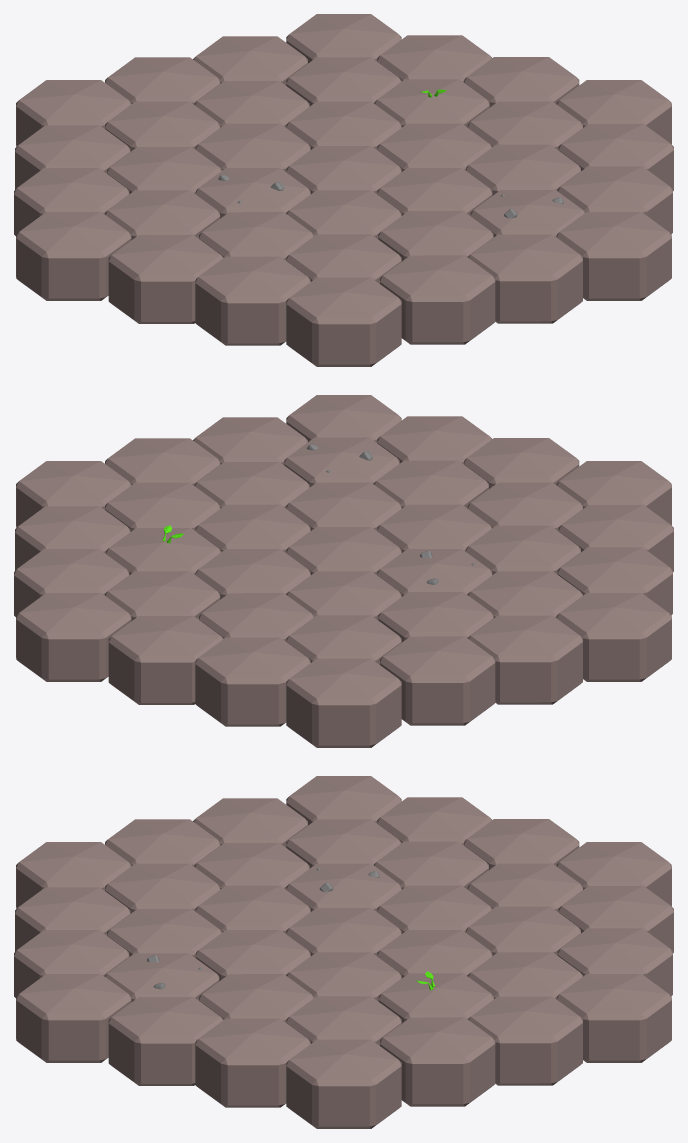
The model's file is FakeMap.fbx.
The picture shows the model from 3 angles, top to bottom: view 1: azimuth 30°, elevation 25°; view 2: azimuth 150°, elevation 25°; view 3: azimuth 270°, elevation 25°; orthographic projection.
Visible parts, largest first — view 1: BaseHex.005, BaseHex.003, BaseHex.002, BaseHex.001, Hex Plant.002, Hex peble.008, Hex peble.005; view 2: BaseHex.005, BaseHex.003, BaseHex.002, Hex peble.005, BaseHex.001, Hex Plant.002, Hex peble.008; view 3: BaseHex.005, BaseHex.003, BaseHex.002, Hex Plant.002, Hex peble.008, BaseHex.001, Hex peble.005.
Boxes of the visible parts, bbox=[...] form: BaseHex.005: bbox=[14, 14, 673, 366]; BaseHex.003: bbox=[105, 57, 582, 283]; BaseHex.002: bbox=[195, 101, 492, 238]; BaseHex.001: bbox=[286, 146, 401, 194]; Hex Plant.002: bbox=[374, 79, 489, 127]; Hex peble.008: bbox=[195, 168, 310, 218]; Hex peble.005: bbox=[470, 190, 585, 237]; BaseHex.005: bbox=[14, 395, 673, 747]; BaseHex.003: bbox=[105, 460, 582, 664]; BaseHex.002: bbox=[195, 482, 492, 619]; Hex peble.005: bbox=[284, 437, 399, 487]; BaseHex.001: bbox=[286, 527, 401, 575]; Hex Plant.002: bbox=[106, 525, 221, 574]; Hex peble.008: bbox=[377, 549, 492, 596]; BaseHex.005: bbox=[14, 776, 673, 1128]; BaseHex.003: bbox=[105, 819, 582, 1045]; BaseHex.002: bbox=[195, 885, 492, 1001]; Hex Plant.002: bbox=[378, 971, 493, 1023]; Hex peble.008: bbox=[286, 863, 401, 911]; BaseHex.001: bbox=[286, 908, 401, 956]; Hex peble.005: bbox=[104, 953, 219, 1002].
Bounding box in the file's own units: 2716 × 262 × 2463.
